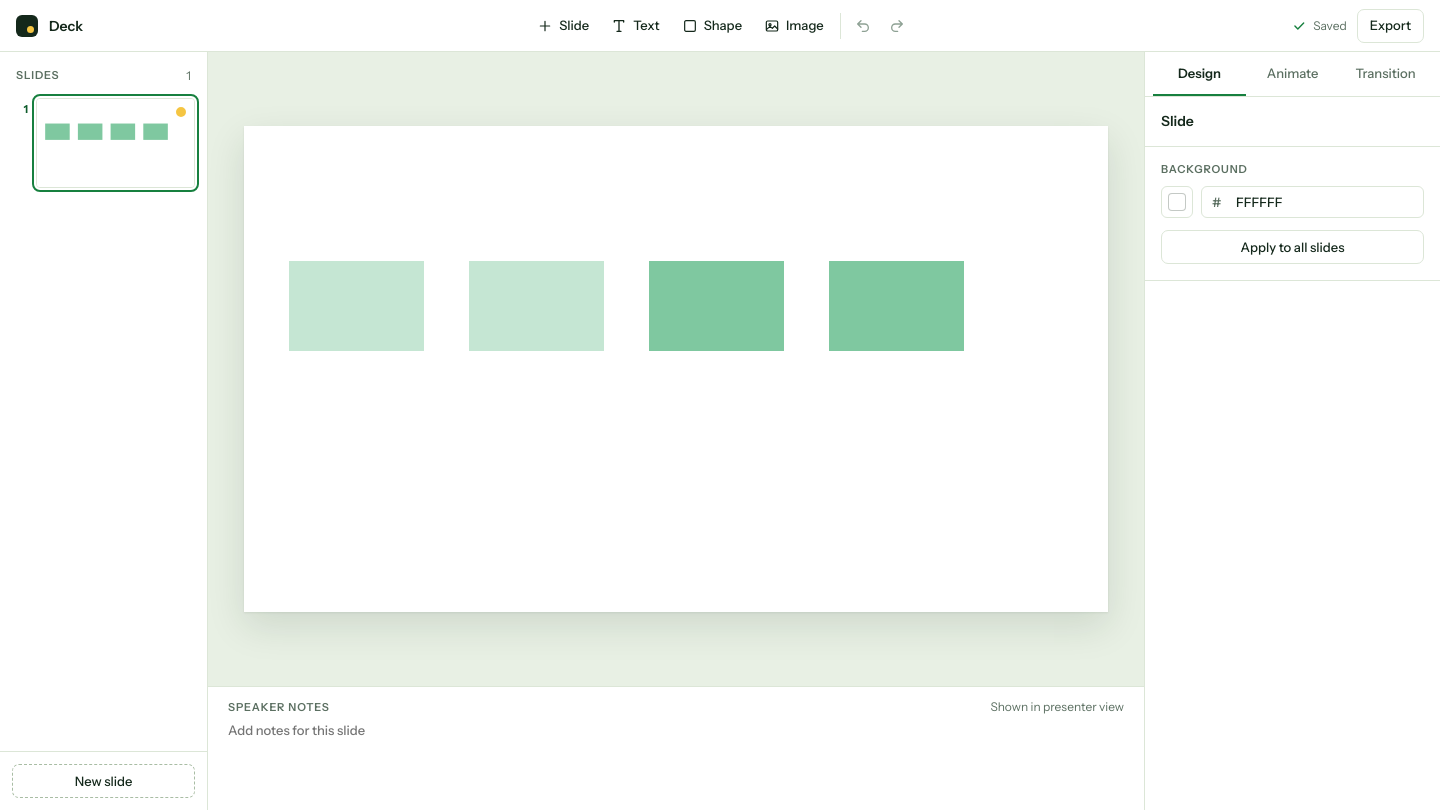
Test: Given a short press on a step, Then it is a click that selects it, not a drag
Expected: the option named "Slide 1" is shown, 12,98 -> 195,188
Click the tab "Animate".
click(1292, 74)  # box 1246,52 -> 1339,96
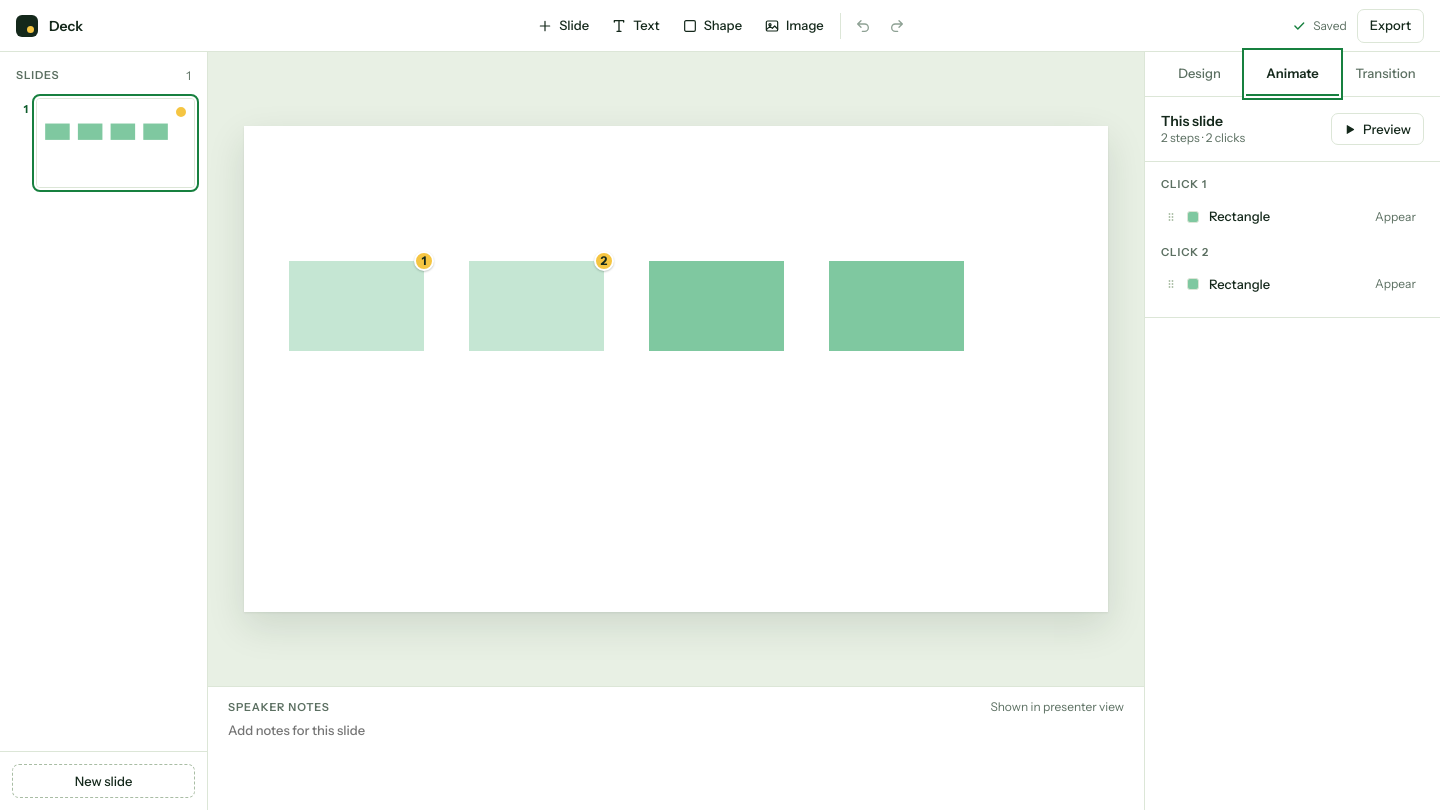
Click the button with class "step-row" below "Click 2".
click(1240, 284)  # box 1161,267 -> 1424,301
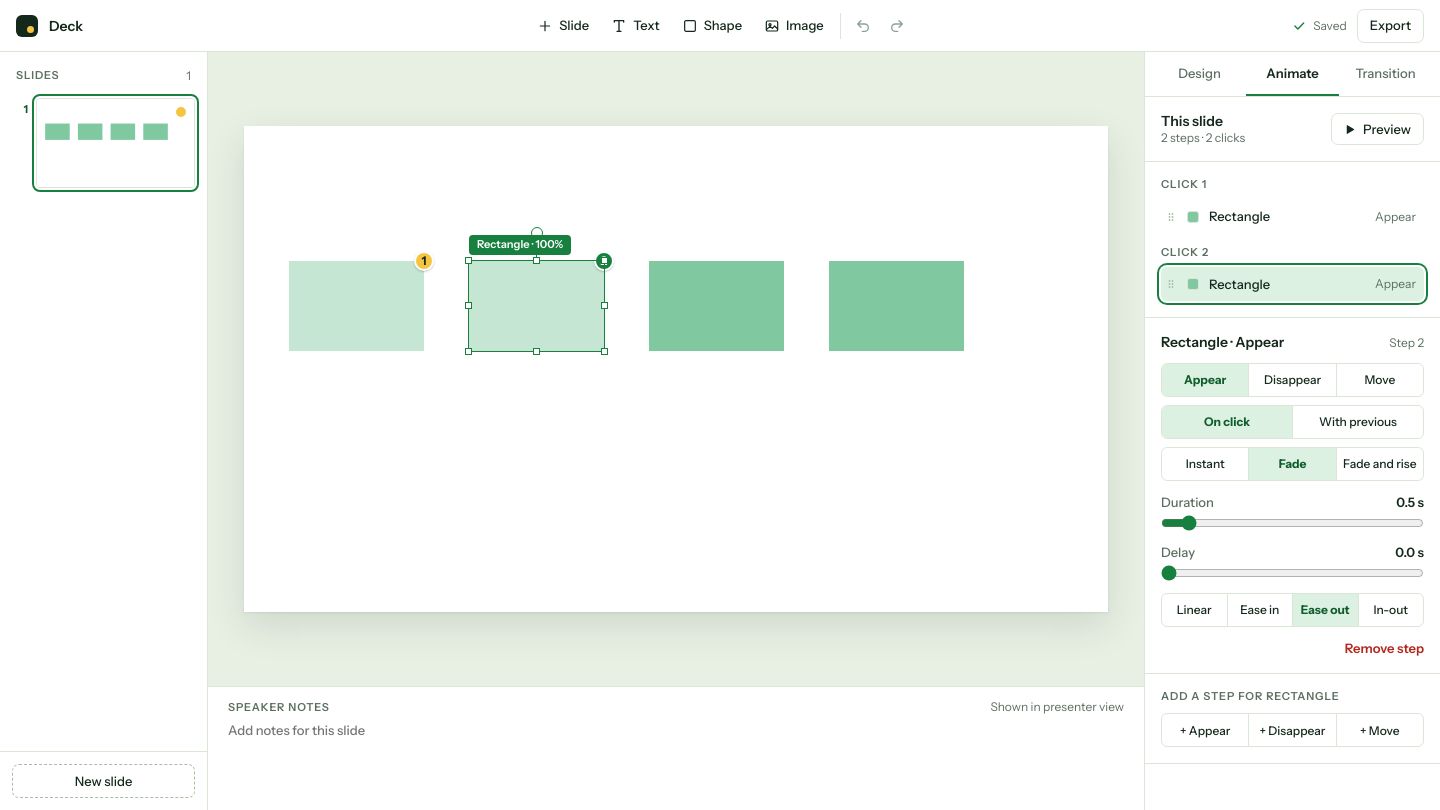
Result: the element named "Step settings" is shown at 1145,318 -> 1439,674
